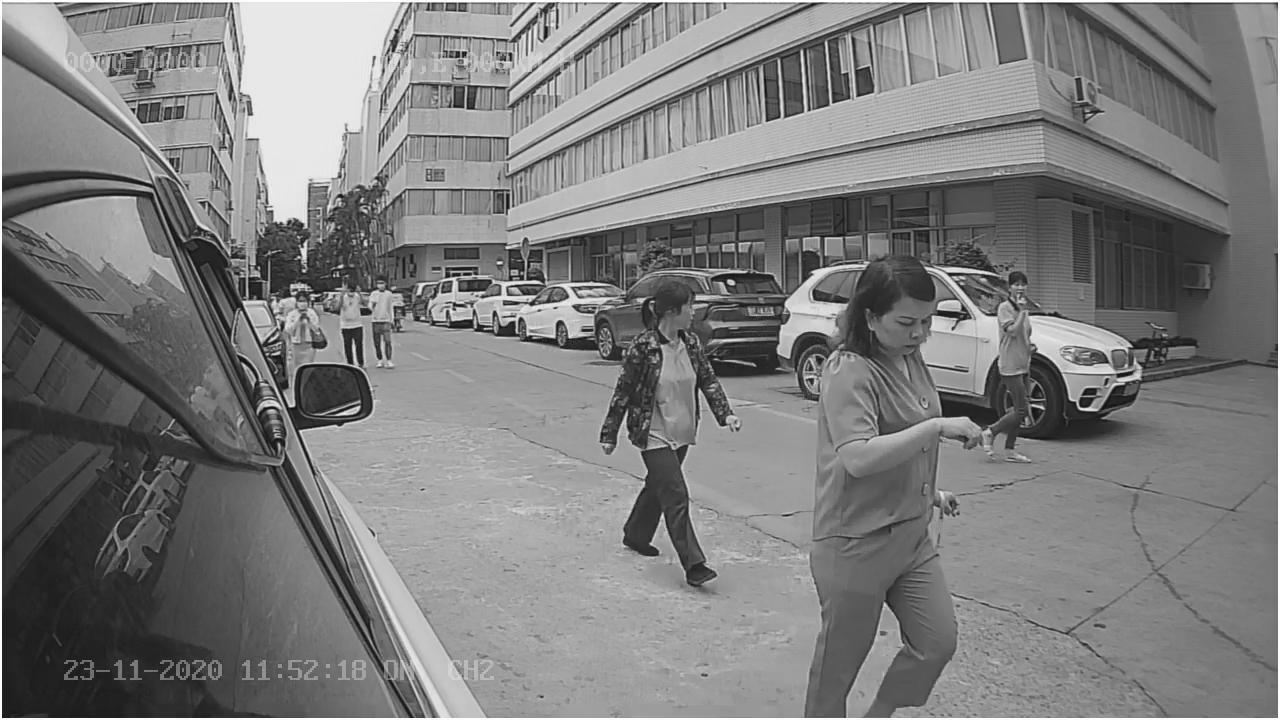person: (798, 262, 962, 708), (603, 272, 736, 593), (983, 266, 1034, 469)
